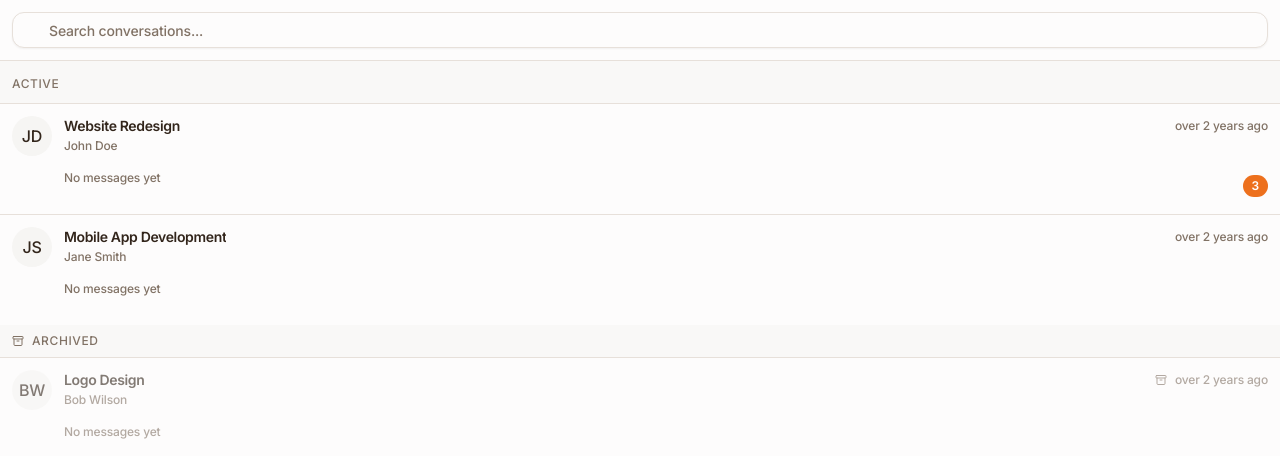
ConversationList › Search/Filter › should filter by participant name
Step 1. Type "Jane" into the field with placeholder "Search conversations..." → (640, 30), box [12,12,1268,48]
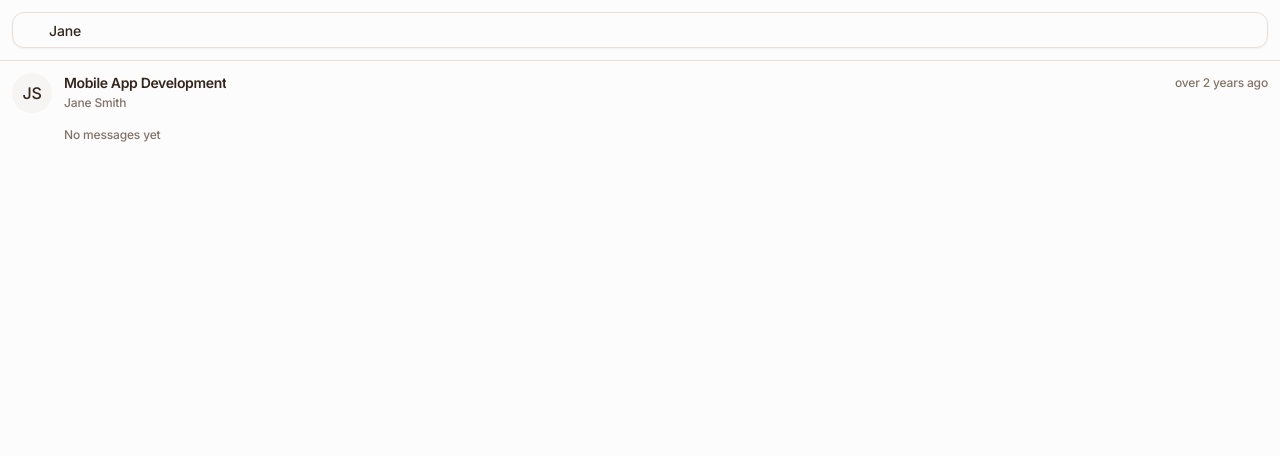
Expected: the heading "Mobile App Development" is shown, [64,73,226,93]
Now the button "Website Redesign" is gone
